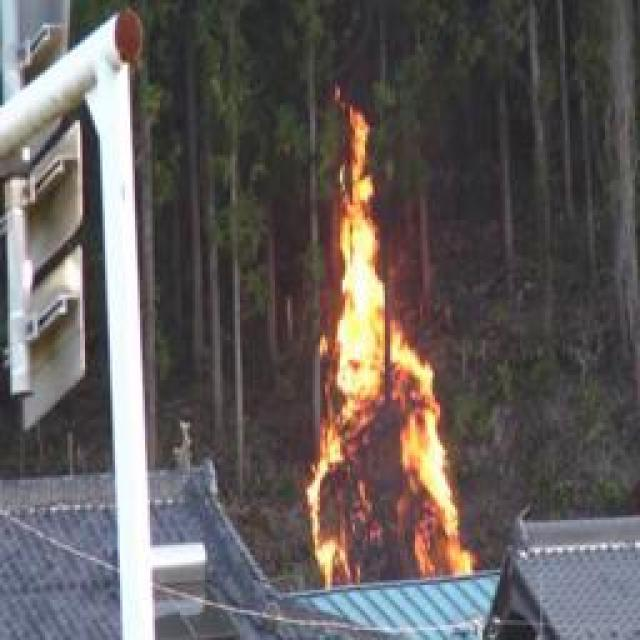Fire: (304, 122, 464, 591)
